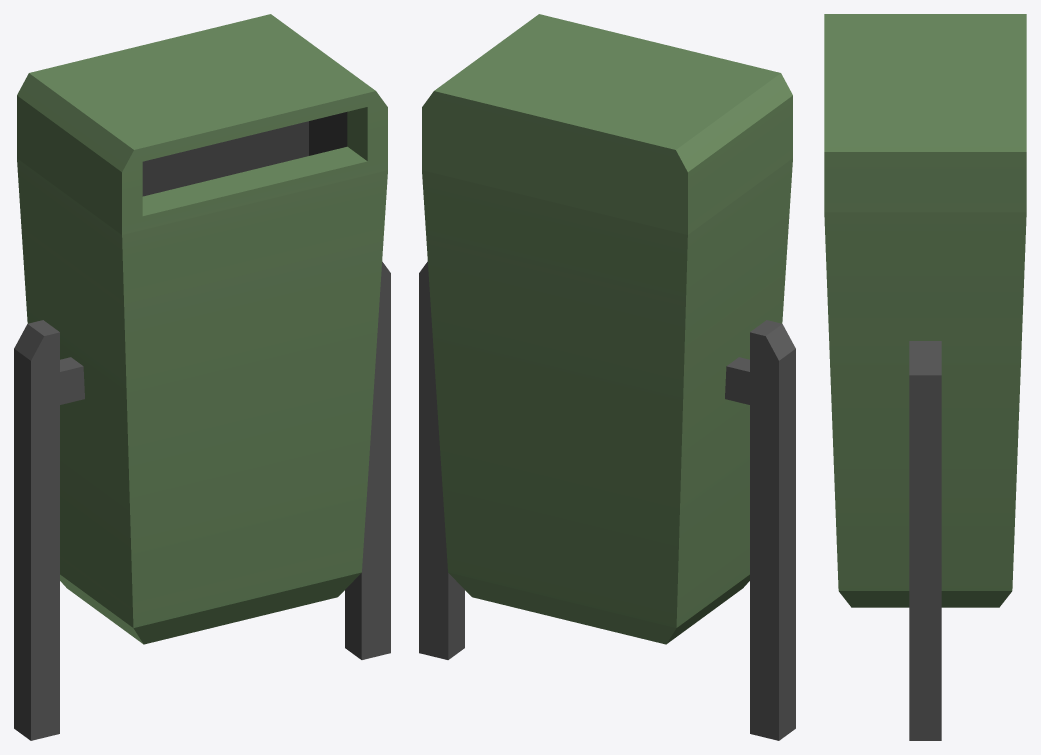
Rendered from Trash_04.fbx.
3 renders of one model, left to right at view 1: azimuth 30°, elevation 25°; view 2: azimuth 150°, elevation 25°; view 3: azimuth 270°, elevation 25°, orthographic. The views are drawn at different scales.
Parts seen in each view (by area): view 1: Trash_04; view 2: Trash_04; view 3: Trash_04.
Part boxes in pixels (left/top/right/bottom): Trash_04: left=14, top=14, right=390, bottom=740; Trash_04: left=419, top=14, right=795, bottom=740; Trash_04: left=824, top=14, right=1026, bottom=740.
Size of the model in its own units: 48.57 by 78.5 by 24.58.
